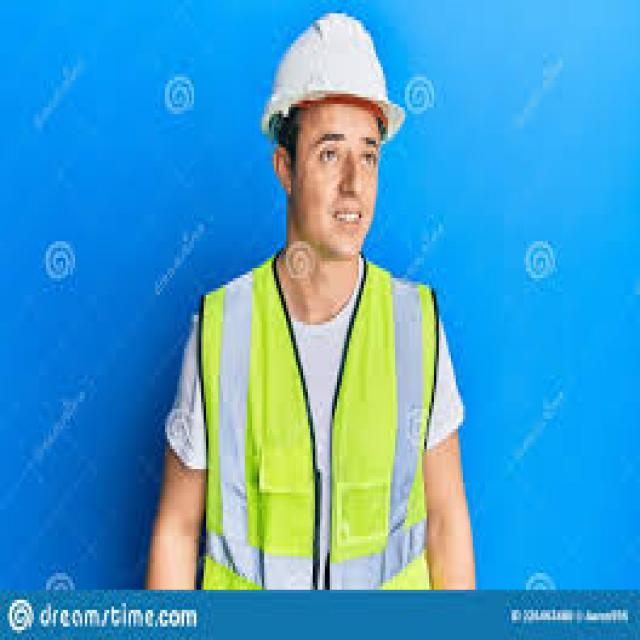Reflective-Jacket: (189, 255, 451, 586)
Safety-Helmet: (257, 10, 405, 147)
